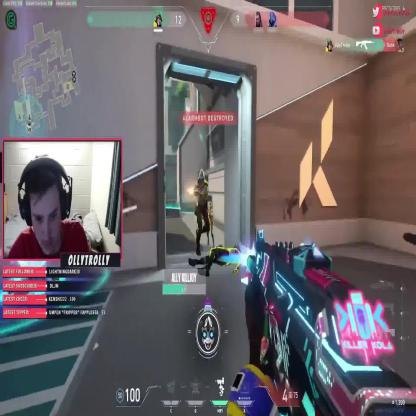enemy: (194, 171, 210, 256), (207, 196, 215, 248)
enemy_head: (198, 168, 206, 185), (209, 201, 212, 212)
